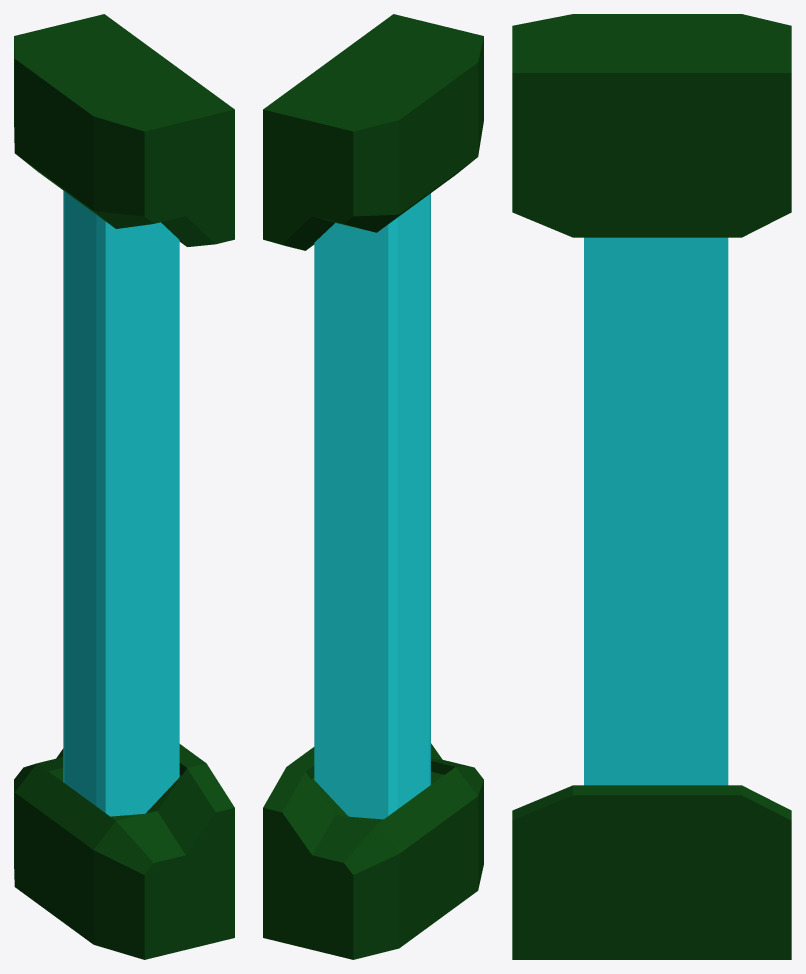
The model's file is SM_Gate_Tall.FBX.
The picture shows the model from 3 angles, left to right: view 1: azimuth 30°, elevation 25°; view 2: azimuth 150°, elevation 25°; view 3: azimuth 270°, elevation 25°; orthographic projection. The views are drawn at different scales.
Visible parts, largest first — view 1: Box003, Barrier_Base_Top001, Barrier_Base_Btm001; view 2: Box003, Barrier_Base_Top001, Barrier_Base_Btm001; view 3: Box003, Barrier_Base_Top001, Barrier_Base_Btm001.
Part boxes in pixels (x1,y1,x2,y2): Box003: (63,190,179,816); Barrier_Base_Top001: (14,14,234,246); Barrier_Base_Btm001: (14,744,234,959); Box003: (314,193,430,819); Barrier_Base_Top001: (263,14,483,250); Barrier_Base_Btm001: (263,743,483,959); Box003: (584,237,728,785); Barrier_Base_Top001: (512,14,791,237); Barrier_Base_Btm001: (512,785,791,959).
Size of the model in its own units: 10 by 20 by 70.03.
